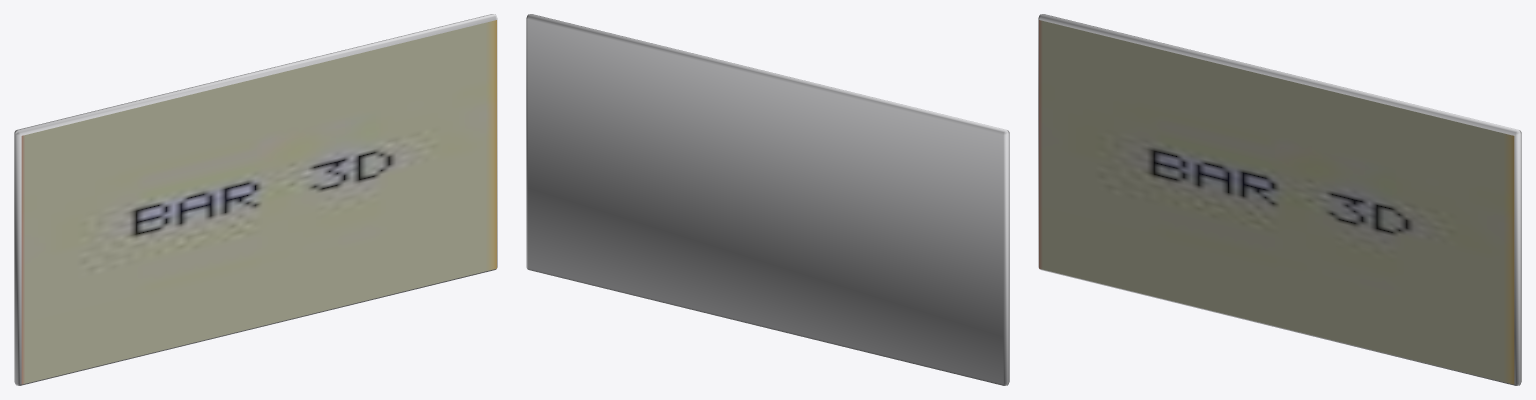
File: license_plate_1.glb
3 renders of one model, left to right at view 1: azimuth 30°, elevation 25°; view 2: azimuth 150°, elevation 25°; view 3: azimuth 330°, elevation 25°, orthographic.
Visible parts, largest first — view 1: Plate, Plate back; view 2: Plate back; view 3: Plate, Plate back.
Part boxes in pixels (bbox=[...]): Plate: bbox=[21, 20, 496, 384]; Plate back: bbox=[14, 14, 497, 385]; Plate back: bbox=[526, 14, 1009, 385]; Plate: bbox=[1039, 20, 1514, 384]; Plate back: bbox=[1038, 14, 1521, 385].
Size of the model in its own units: 0.304 by 0.154 by 0.006.
2 materials, 1 textured.
